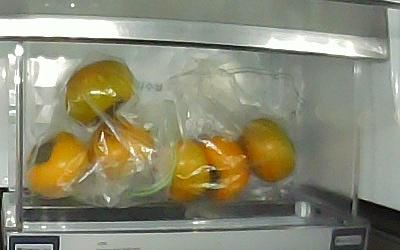persimmon_vinyl: (65, 59, 135, 128), (25, 132, 88, 199), (240, 119, 299, 184), (90, 121, 155, 179), (201, 136, 249, 204), (160, 139, 210, 201)
